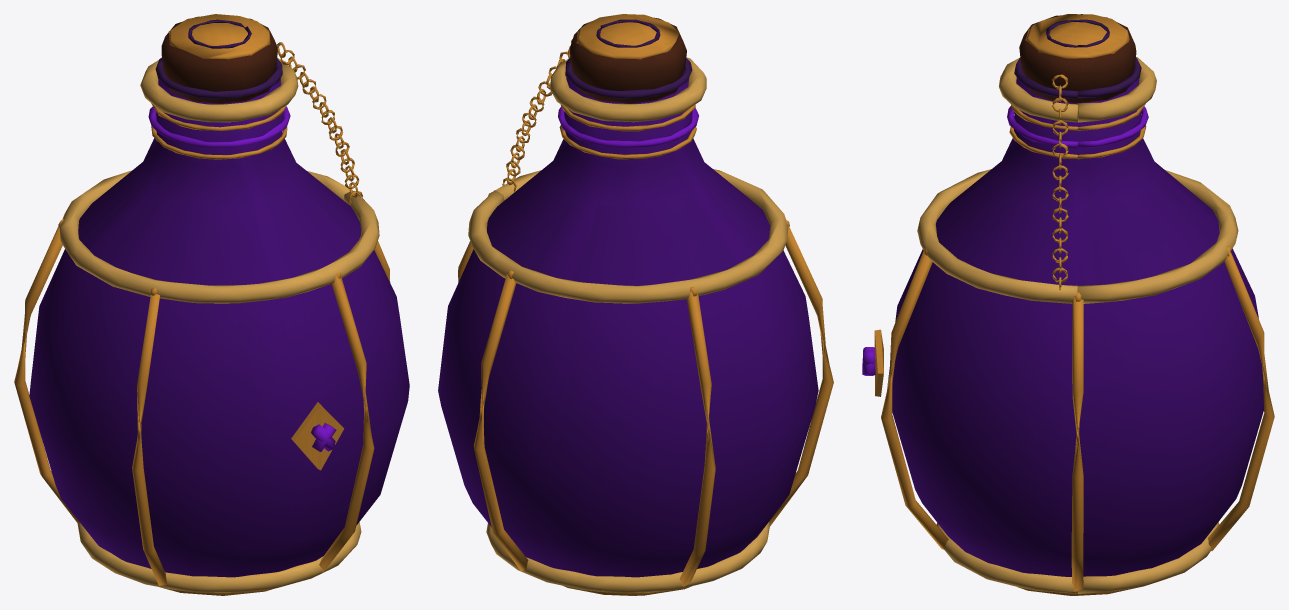
Rendered from SM_nova_flask_LOD2.fbx.
3 views of the same model, side by side, from view 1: azimuth 30°, elevation 25°; view 2: azimuth 150°, elevation 25°; view 3: azimuth 270°, elevation 25° (orthographic).
Visible parts, largest first — view 1: SM_nova_flask_LOD2; view 2: SM_nova_flask_LOD2; view 3: SM_nova_flask_LOD2.
Part boxes in pixels (bbox=[...]): SM_nova_flask_LOD2: bbox=[14, 14, 409, 595]; SM_nova_flask_LOD2: bbox=[438, 14, 833, 595]; SM_nova_flask_LOD2: bbox=[862, 14, 1274, 595].
Bounding box in the file's own units: 0.6779 × 0.704 × 0.99.
